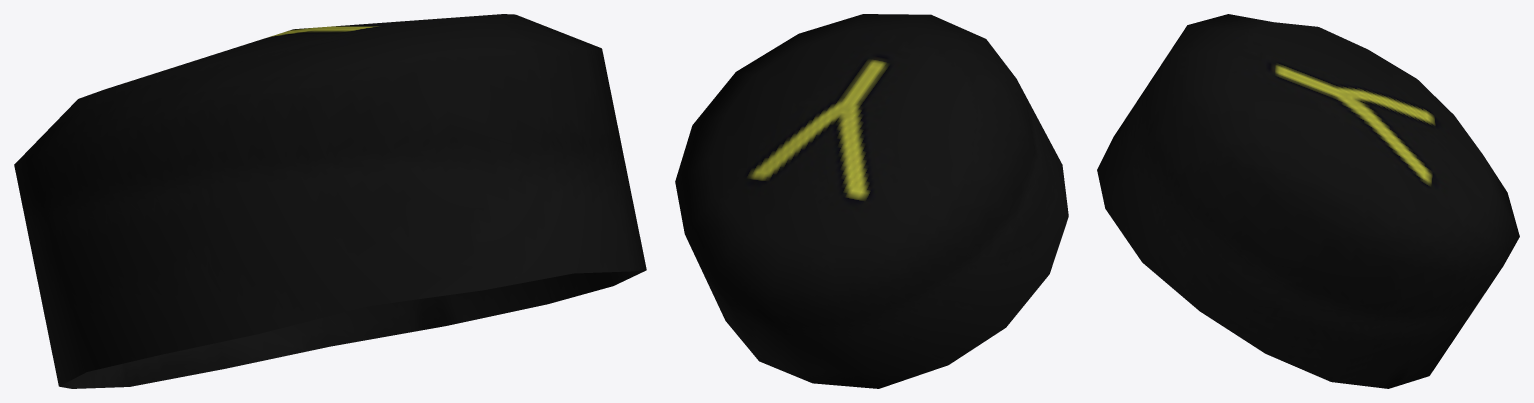
Rendered from YVR_d1_left_Ybutton.obj.
3 views of the same model, side by side, from view 1: azimuth 30°, elevation 25°; view 2: azimuth 150°, elevation 25°; view 3: azimuth 270°, elevation 25° (orthographic). The views are drawn at different scales.
Visible parts, largest first — view 1: Object006; view 2: Object006; view 3: Object006.
Boxes of the visible parts, <box> form: Object006: <box>14,14,646,388</box>; Object006: <box>675,14,1068,388</box>; Object006: <box>1097,14,1519,388</box>.
Bounding box in the file's own units: 0.01 × 0.0081 × 0.0103.
1 material, 1 textured.
